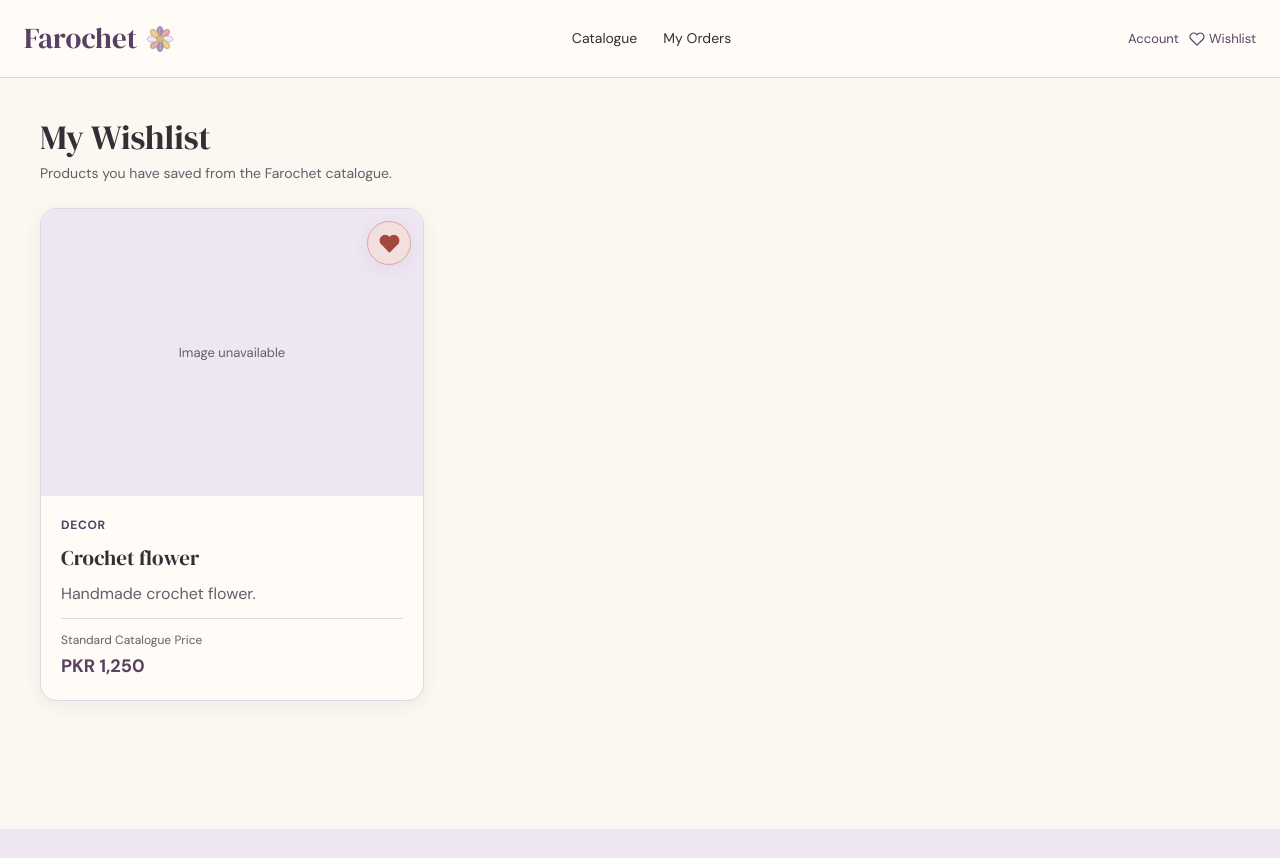
Test: CustomerWishlistPage › renders saved products and removes an item after backend confirmation
expect the heading "Crochet flower" is shown: met, box [61,543,199,572]
expect the text "PKR 1,250" is shown: met, box [61,654,145,678]
What coordinates should you click on to do the following:
click the button named "Remove from Wishlist"
I would click on:
 (389, 243)
Its box is [367,221,411,265].
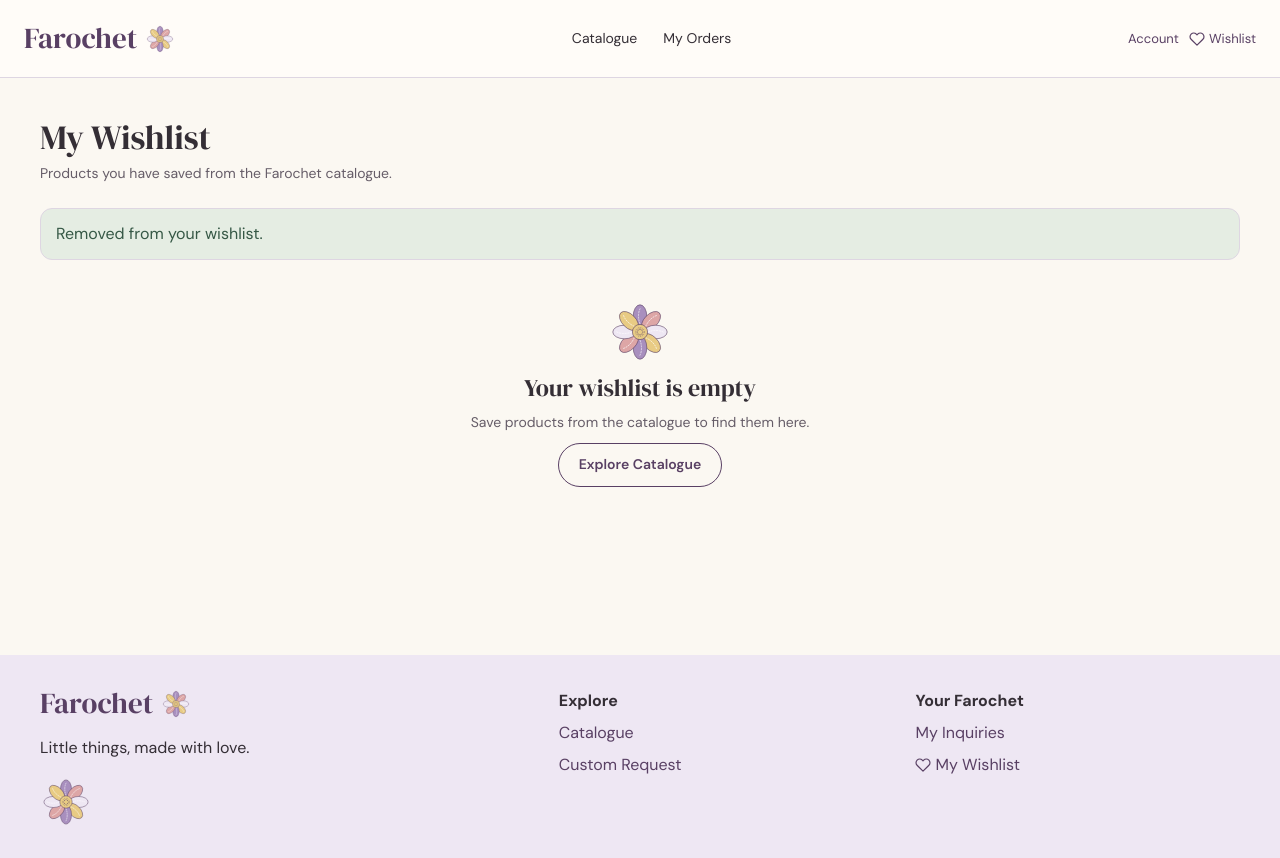
expect the heading "Your wishlist is empty" is shown: met, box [524,374,756,402]
expect the text "Removed from your wishlist." is shown: met, box [56,222,263,246]
